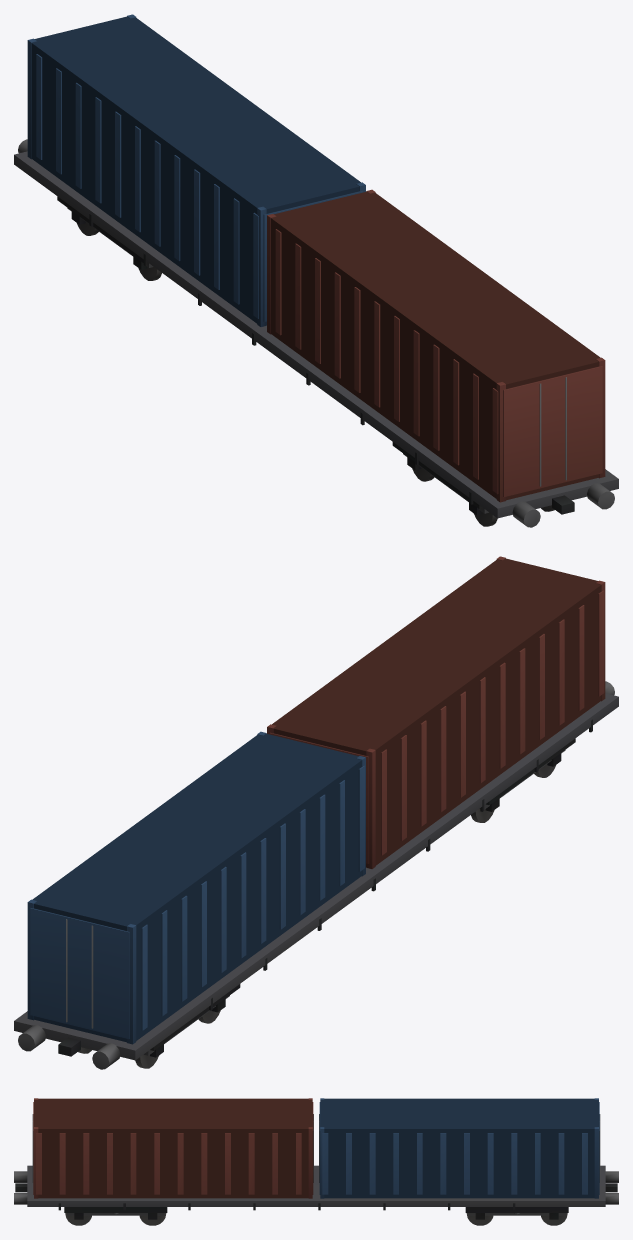
Rendered from wagen_container0.glb.
3 views of the same model, one above another, from view 1: azimuth 30°, elevation 25°; view 2: azimuth 150°, elevation 25°; view 3: azimuth 270°, elevation 25° (orthographic). The views are drawn at different scales.
Visible parts, largest first — view 1: lack; view 2: lack; view 3: lack.
Boxes of the visible parts, x1,y1,x2,y2 form: lack: [14, 14, 618, 527]; lack: [14, 556, 618, 1069]; lack: [14, 1098, 618, 1225].
Size of the model in its own units: 2.85 by 3.83 by 20.5.
